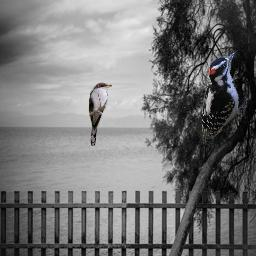Cuckoo: (88, 82, 112, 146)
Woodpecker: (202, 51, 249, 139)
